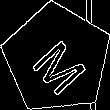M_NE: (23, 25, 90, 93)
